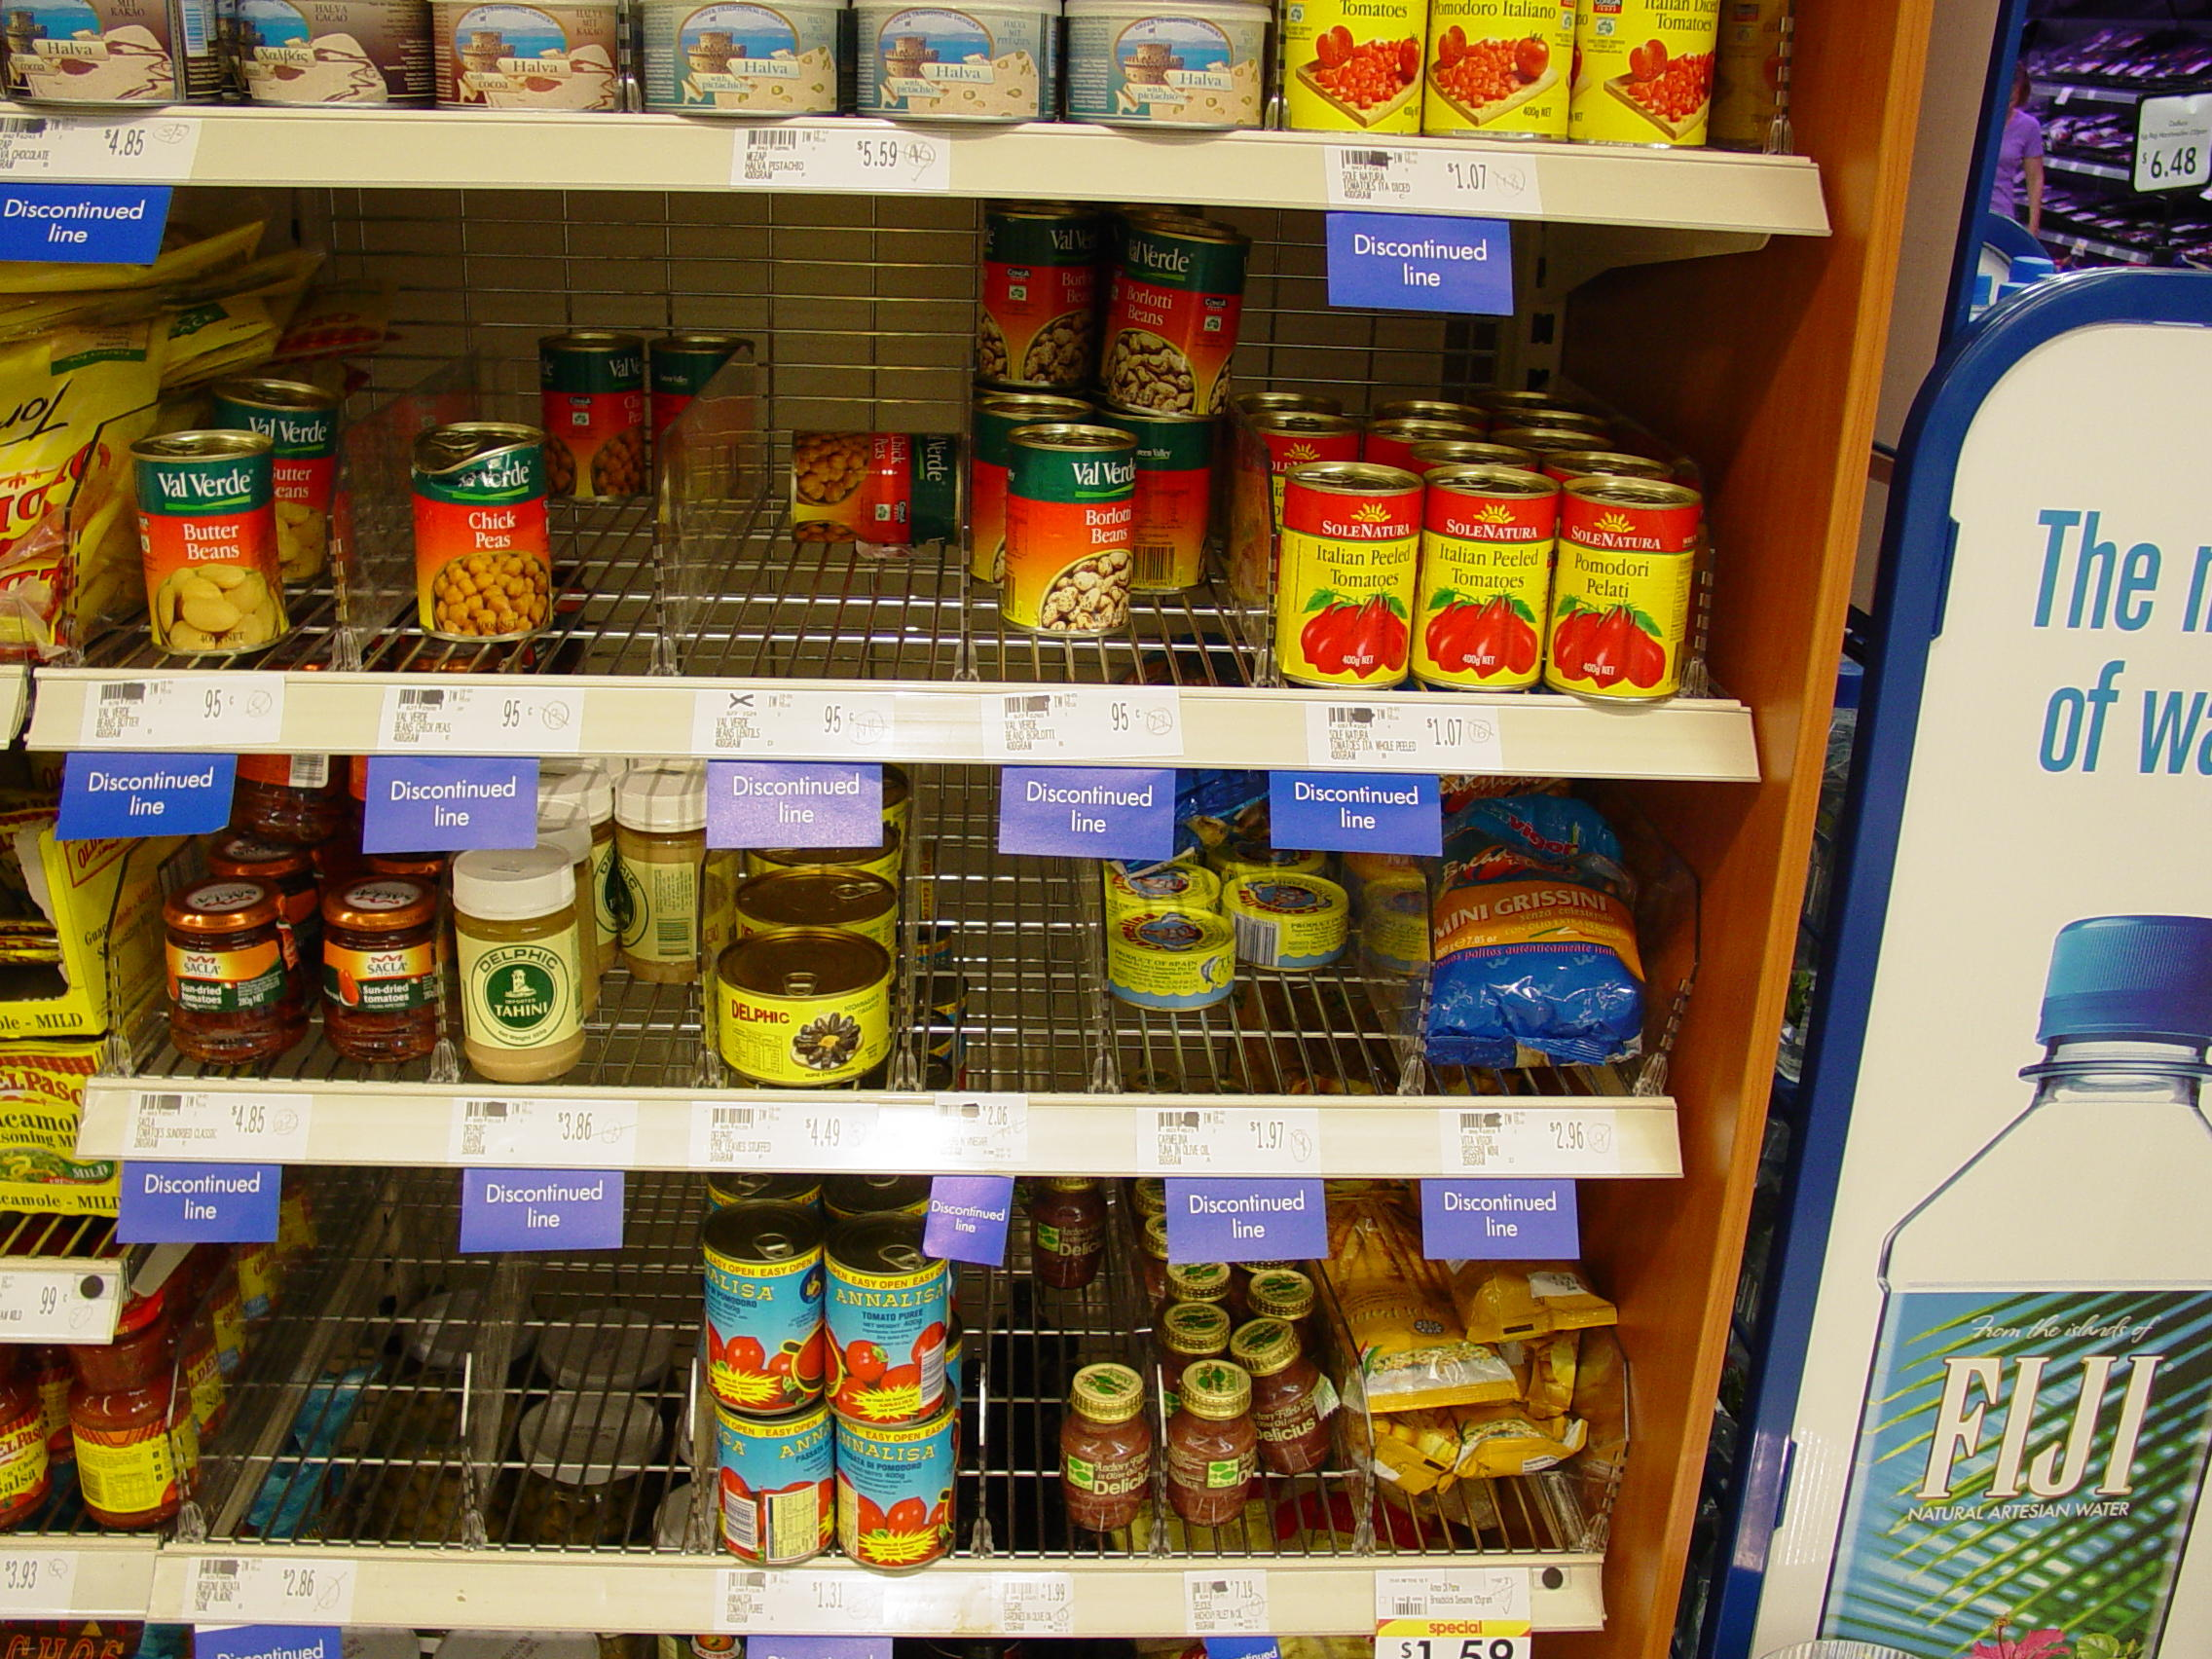Misplacement: (956, 197, 1249, 674), (397, 322, 726, 676), (573, 781, 704, 1082)
Out-of-stock: (244, 1185, 683, 1537), (902, 781, 1103, 1086)
